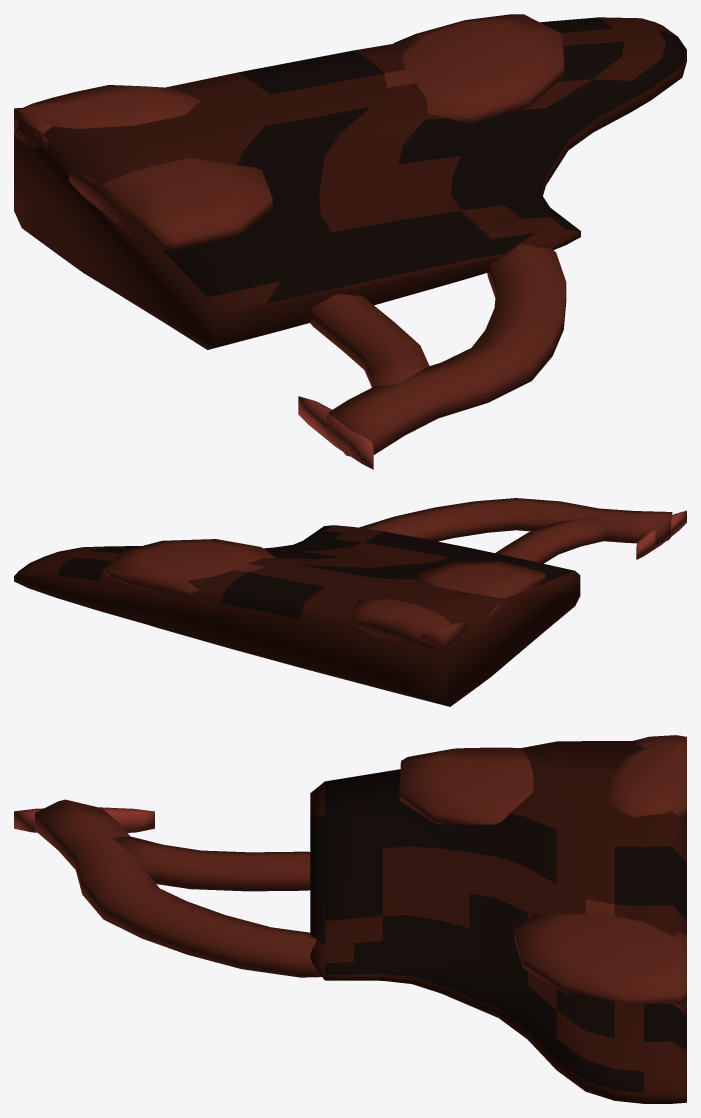
The model's file is newsh5-276.glb.
3 renders of one model, top to bottom at view 1: azimuth 30°, elevation 25°; view 2: azimuth 150°, elevation 25°; view 3: azimuth 270°, elevation 25°, orthographic. The views are drawn at different scales.
Parts seen in each view (by area): view 1: newsh5-276; view 2: newsh5-276; view 3: newsh5-276.
Boxes of the visible parts, x1,y1,x2,y2 form: newsh5-276: (14,14,686,469); newsh5-276: (14,498,686,706); newsh5-276: (14,735,686,1103).
Size of the model in its own units: 1.99 by 0.3508 by 1.94.
